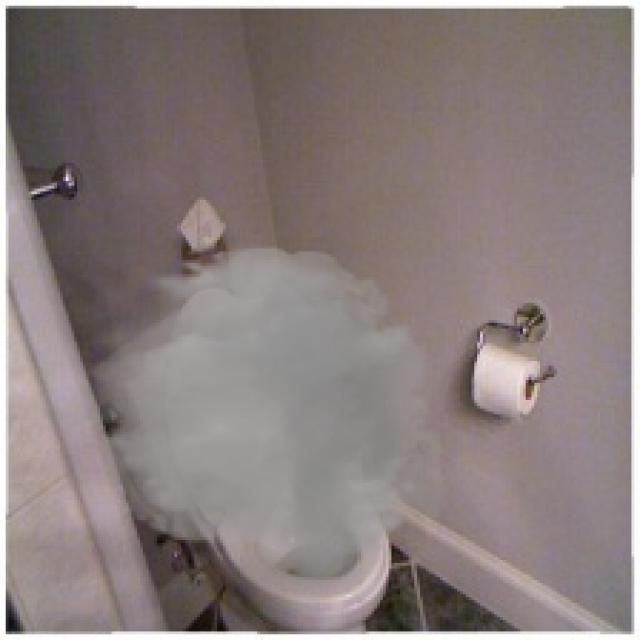Smoke: (48, 237, 463, 617)
